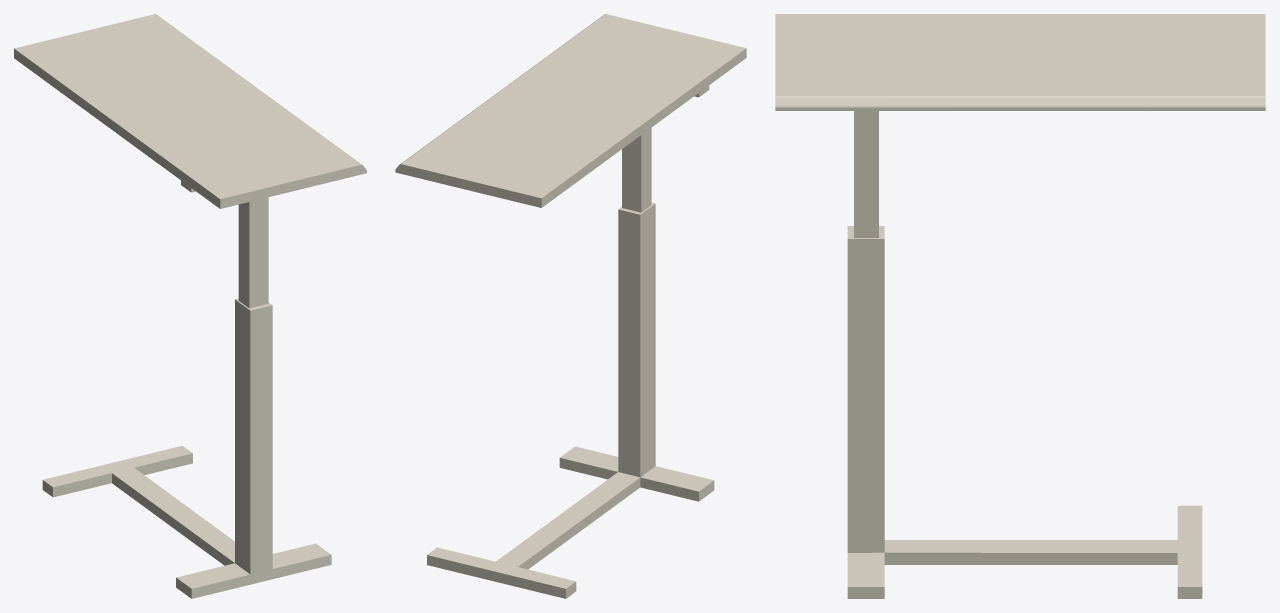
File: Propo_Mesa_Estanteria_Ajustable.fbx
3 views of the same model, side by side, from view 1: azimuth 30°, elevation 25°; view 2: azimuth 150°, elevation 25°; view 3: azimuth 270°, elevation 25° (orthographic). The views are drawn at different scales.
Visible parts, largest first — view 1: Propo_Mesa_Estanteria_Ajustable, Propo_Mesa_Estanteria_Ajustable_bajo; view 2: Propo_Mesa_Estanteria_Ajustable, Propo_Mesa_Estanteria_Ajustable_bajo; view 3: Propo_Mesa_Estanteria_Ajustable, Propo_Mesa_Estanteria_Ajustable_bajo.
Boxes of the visible parts, x1,y1,x2,y2 form: Propo_Mesa_Estanteria_Ajustable: (14, 14, 366, 308); Propo_Mesa_Estanteria_Ajustable_bajo: (42, 298, 331, 598); Propo_Mesa_Estanteria_Ajustable: (395, 14, 746, 212); Propo_Mesa_Estanteria_Ajustable_bajo: (427, 202, 714, 598); Propo_Mesa_Estanteria_Ajustable: (775, 14, 1265, 237); Propo_Mesa_Estanteria_Ajustable_bajo: (847, 226, 1202, 598).
Size of the model in its own units: 65.23 by 179 by 159.
